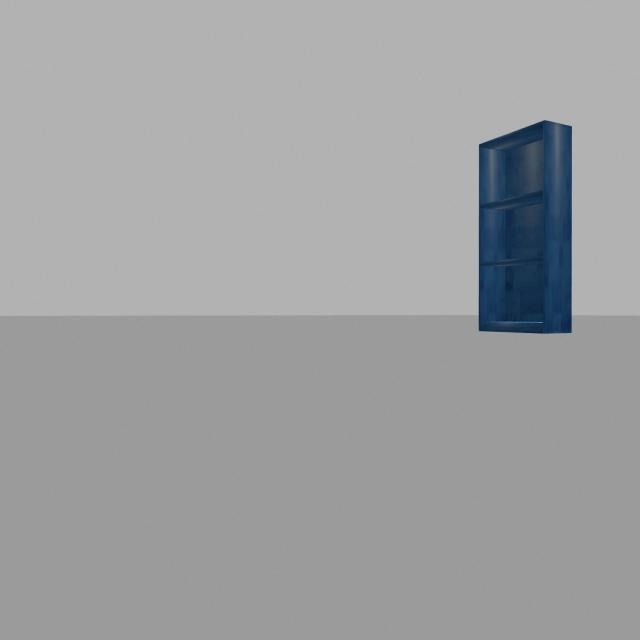shelf: (469, 110, 584, 352)
